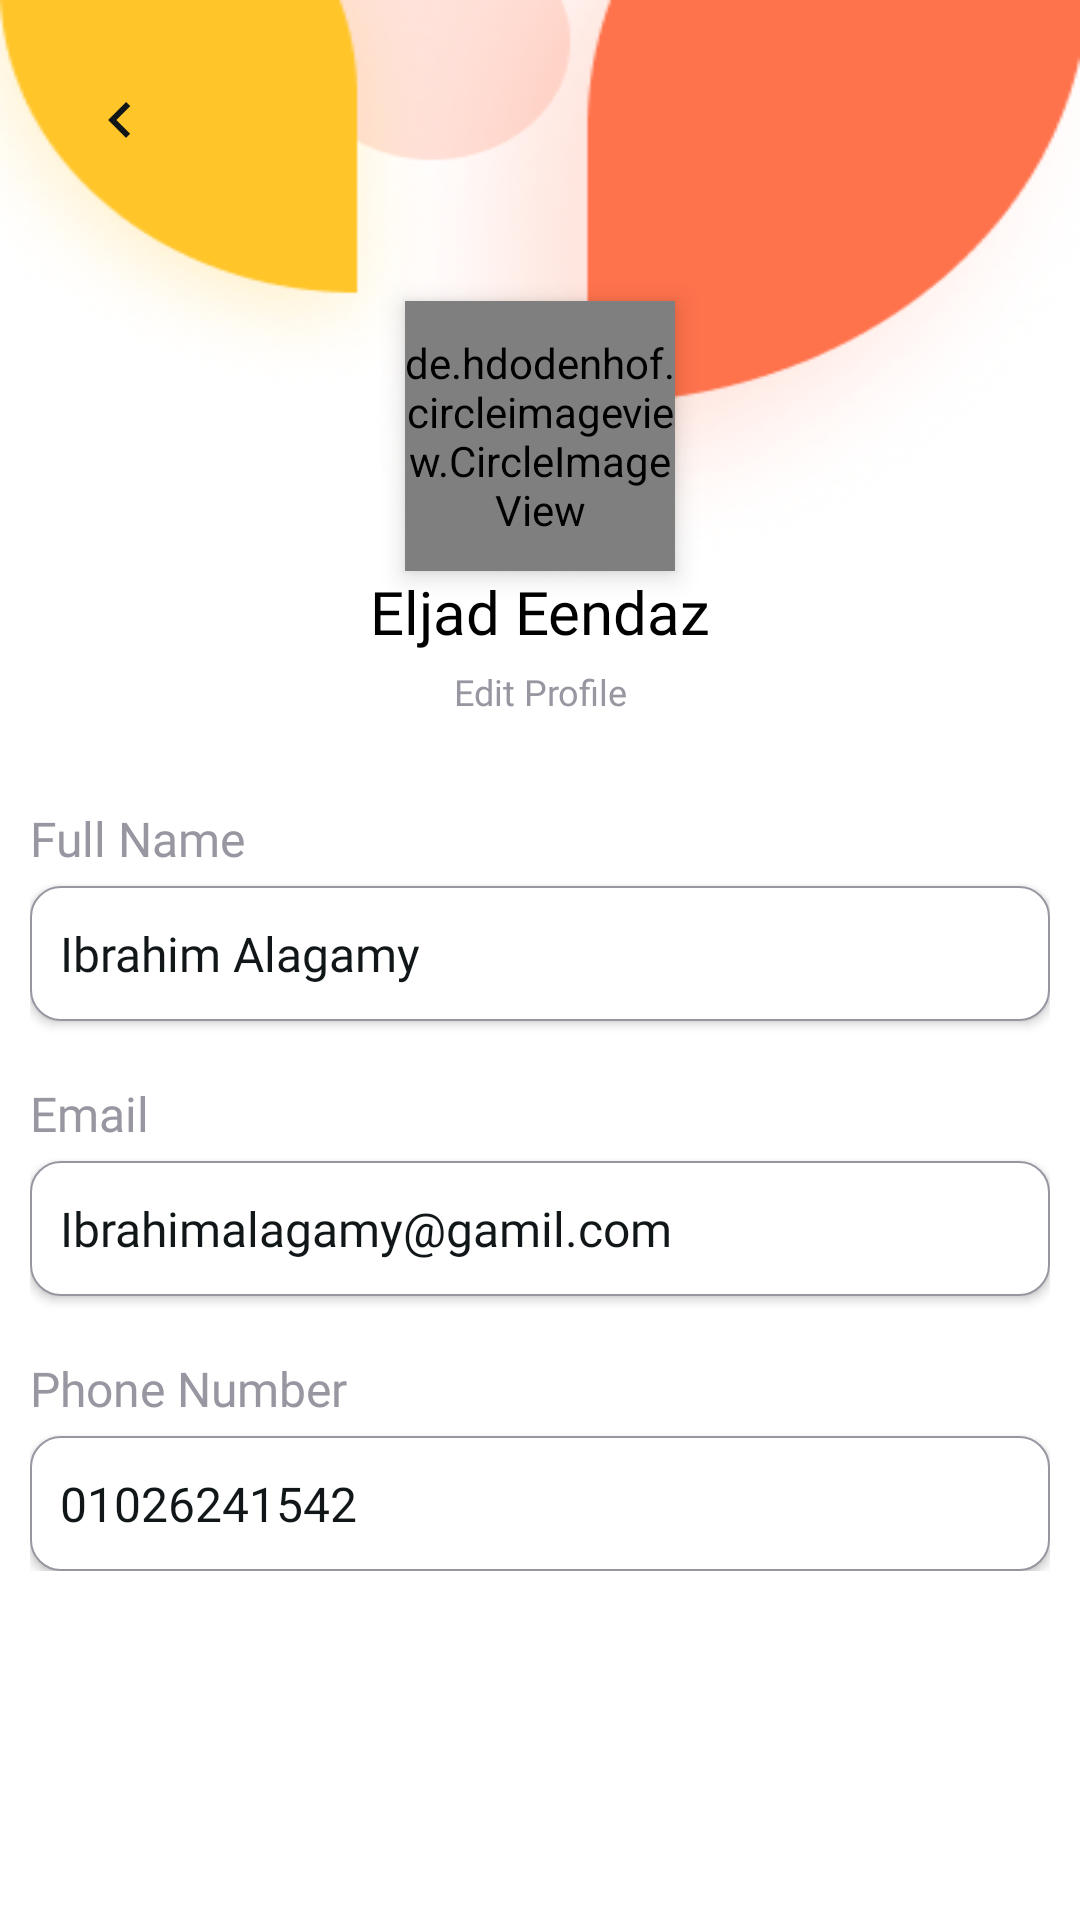

Screen size 1080 x 1920. Icon name, then its center in pixels as (x,y):
arrow left: (119,120)
